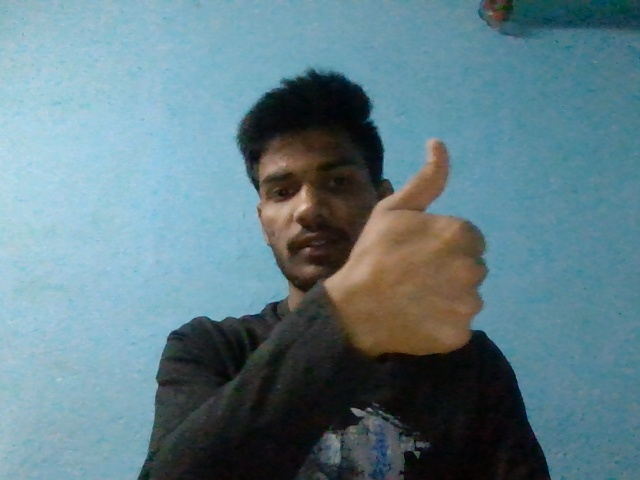ThumbsUp: (353, 137, 489, 356)
